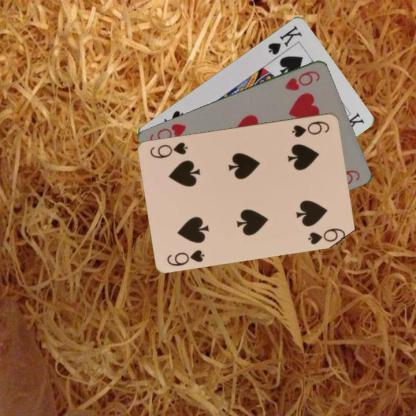6h: (282, 67, 321, 92)
6s: (289, 118, 331, 139), (164, 247, 206, 267)
Ks: (265, 22, 304, 56)
